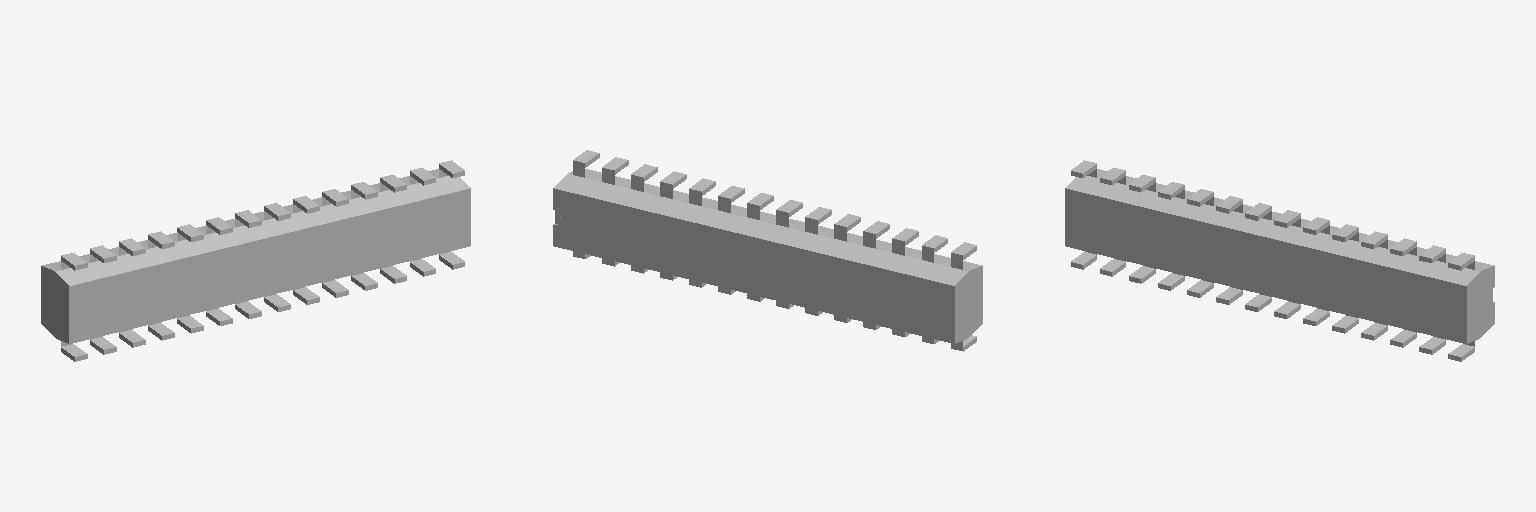
File: DIL-28-3.obj
3 views of the same model, side by side, from view 1: azimuth 30°, elevation 25°; view 2: azimuth 150°, elevation 25°; view 3: azimuth 330°, elevation 25° (orthographic).
Visible parts, largest first — view 1: ShapeIndexedFaceSet.058_ShapeIndexedFaceSet; view 2: ShapeIndexedFaceSet.058_ShapeIndexedFaceSet, ShapeIndexedFaceSet_ShapeIndexedFaceSet.001; view 3: ShapeIndexedFaceSet.058_ShapeIndexedFaceSet.
Boxes of the visible parts, x1=… form: ShapeIndexedFaceSet.058_ShapeIndexedFaceSet: x1=41, y1=169, x2=470, y2=343; ShapeIndexedFaceSet.058_ShapeIndexedFaceSet: x1=553, y1=169, x2=982, y2=343; ShapeIndexedFaceSet_ShapeIndexedFaceSet.001: x1=566, y1=197, x2=686, y2=273; ShapeIndexedFaceSet.058_ShapeIndexedFaceSet: x1=1065, y1=169, x2=1494, y2=343.
Bounding box in the file's own units: 35.05 × 8.02 × 4.26.